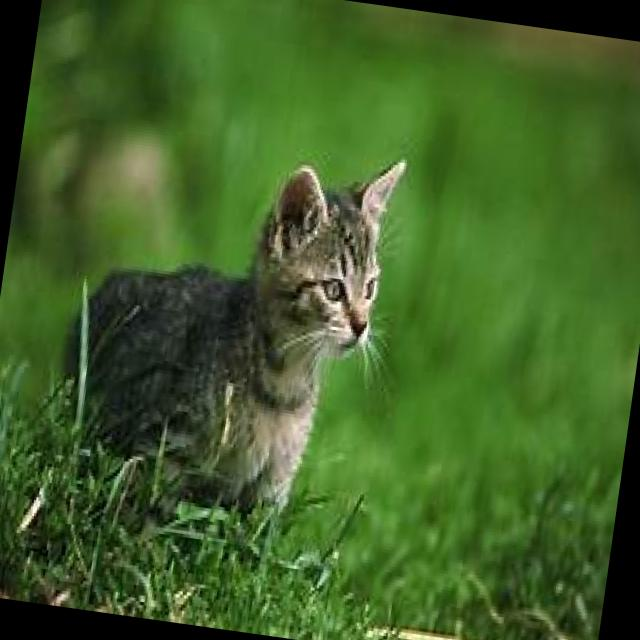cat: (16, 86, 482, 566)
